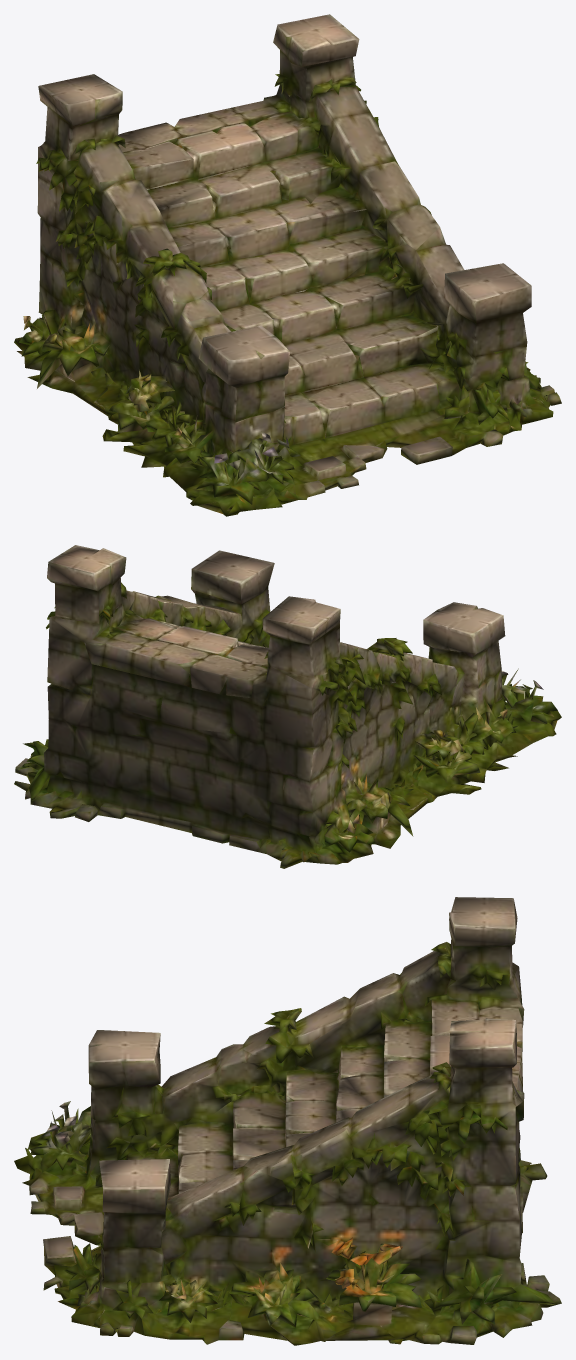
The model's file is terrace-stair.glb.
3 views of the same model, one above another, from view 1: azimuth 30°, elevation 25°; view 2: azimuth 150°, elevation 25°; view 3: azimuth 270°, elevation 25° (orthographic). The views are drawn at different scales.
Parts seen in each view (by area): view 1: Mesh1.0; view 2: Mesh1.0; view 3: Mesh1.0.
Boxes of the visible parts, x1,y1,x2,y2 form: Mesh1.0: (14,14,561,516); Mesh1.0: (14,545,561,868); Mesh1.0: (14,897,561,1345).
Bounding box in the file's own units: 1.72 × 1.04 × 1.9.
1 material, 1 textured.
